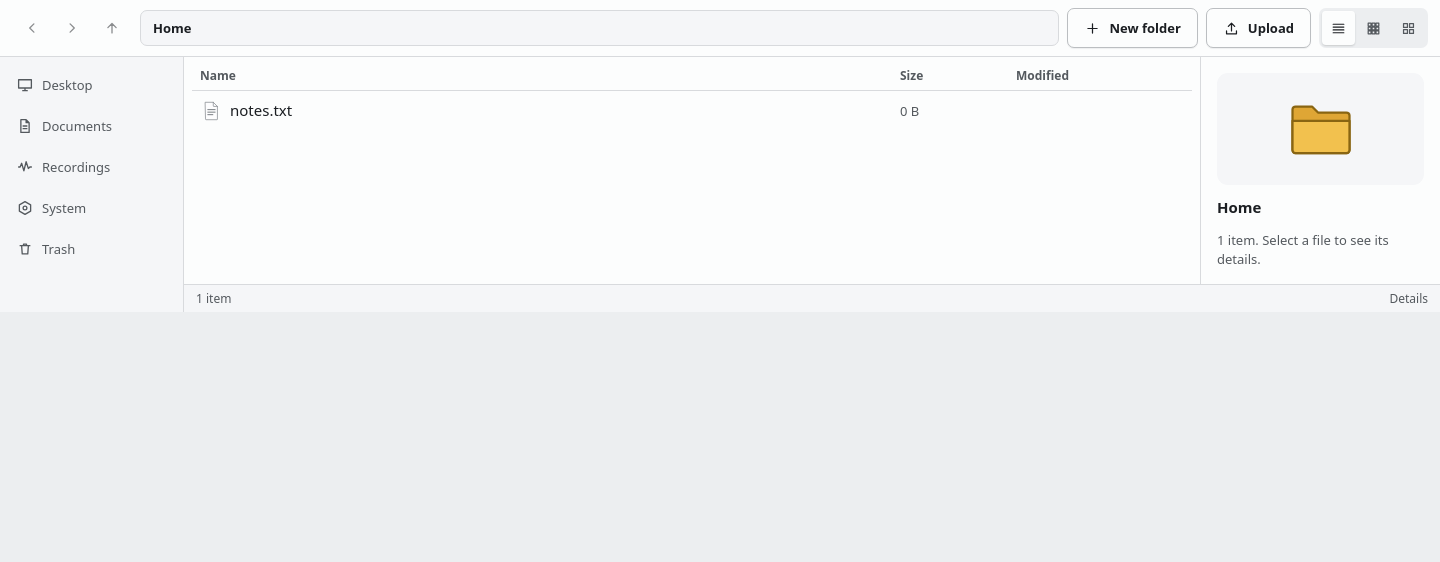
Test case: Files › shows the core error with its hint when an action fails
The image size is (1440, 562).
Click the option "notes.txt 0 B".
click(261, 110)  # box [200, 100, 919, 122]
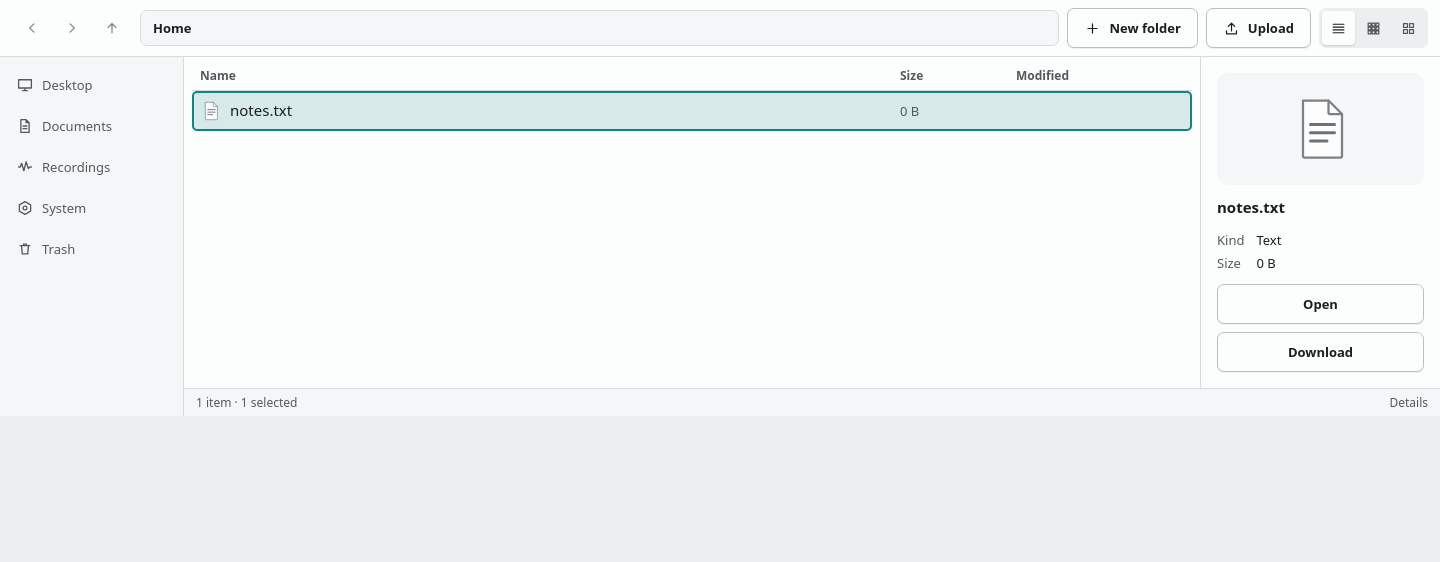
Press Delete
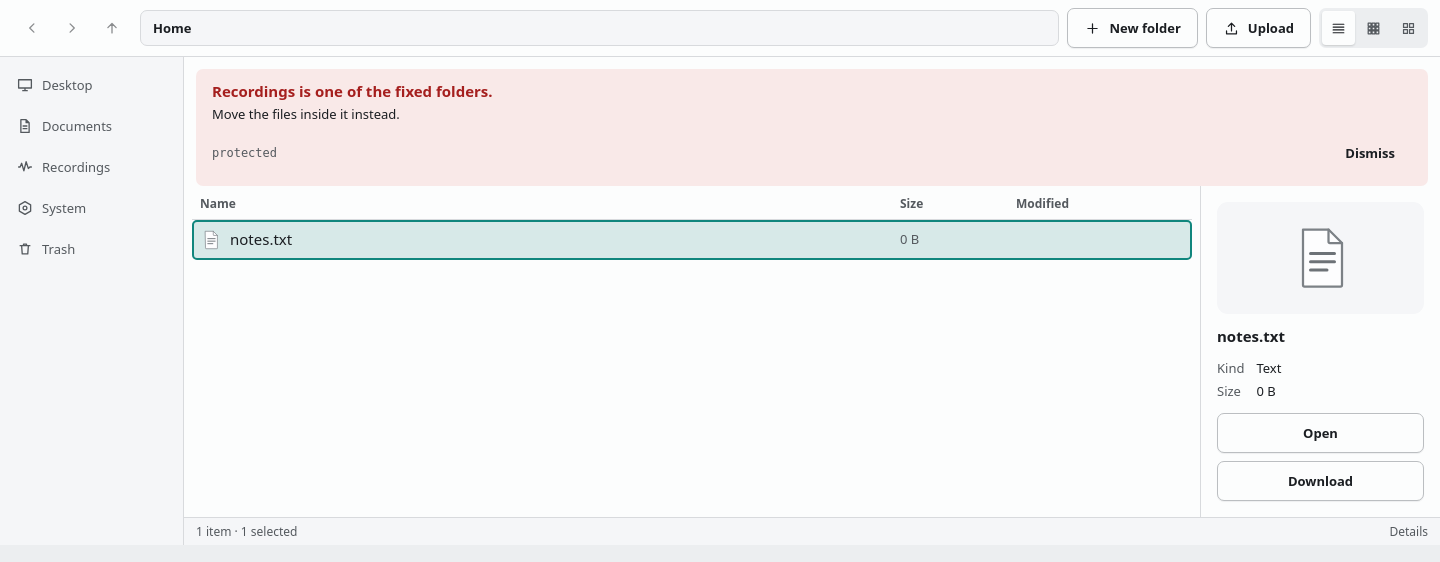
Check: the text "Recordings is one of the fixed folders." is shown, box [212, 81, 493, 101]
Check: the text "Move the files inside it instead." is shown, box [212, 105, 400, 123]
